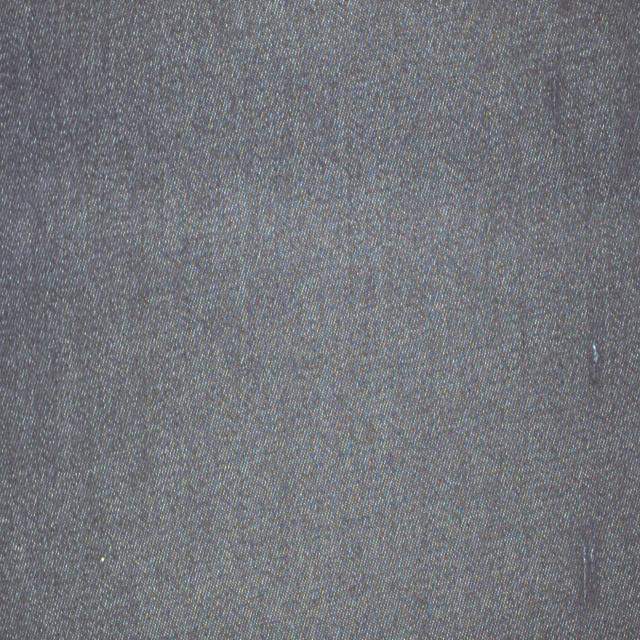Knot: (580, 522, 599, 610), (545, 70, 562, 130), (592, 341, 602, 384)
